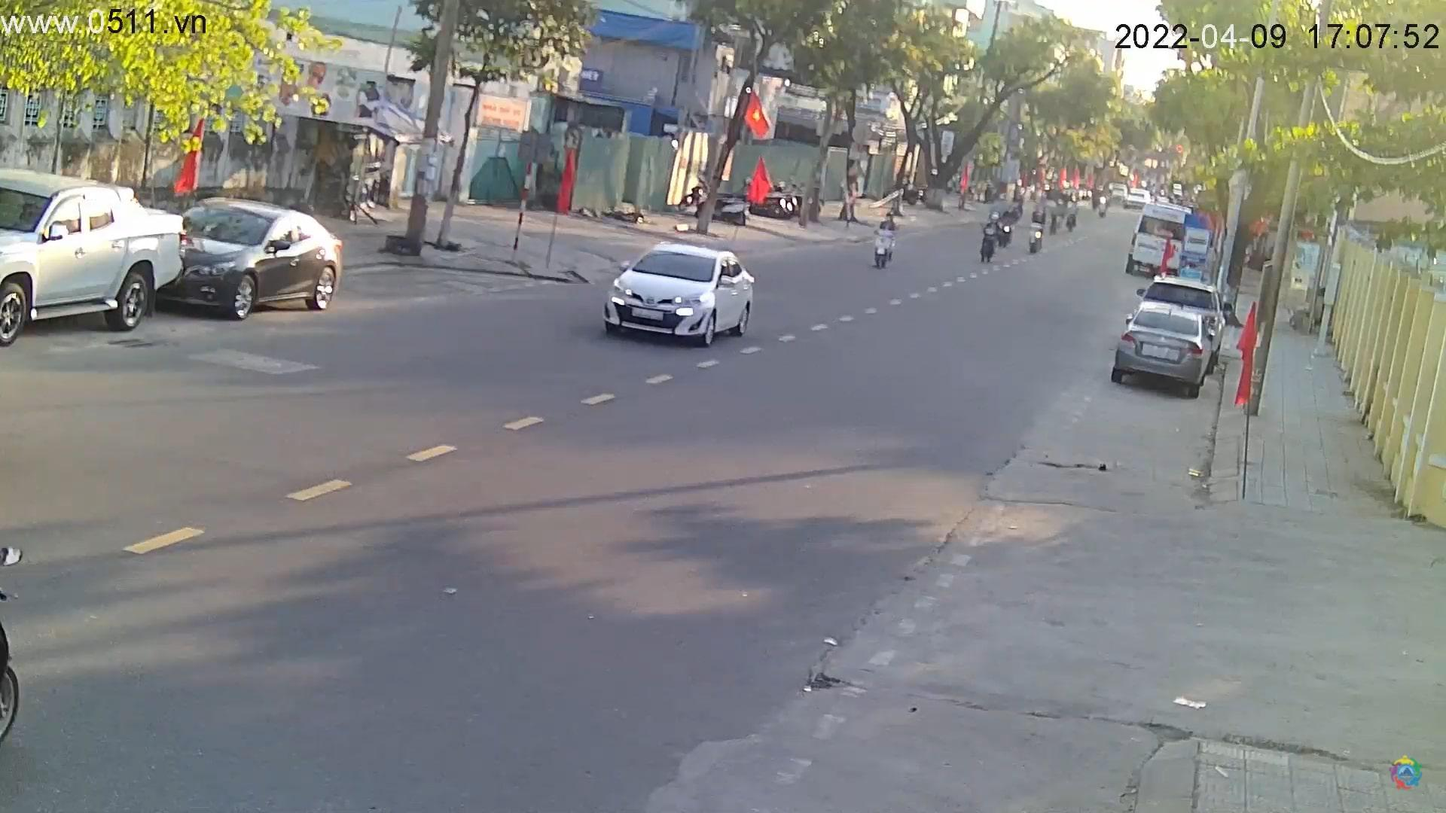car: (2, 169, 187, 351), (165, 199, 352, 322), (599, 242, 764, 346)
